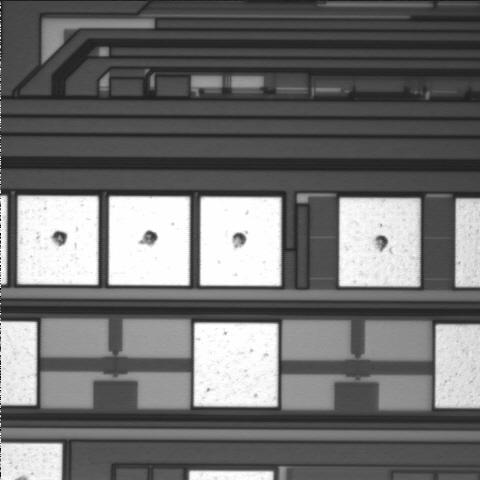pad: (18, 196, 99, 285), (109, 196, 190, 285), (200, 197, 281, 286), (339, 198, 420, 286), (194, 323, 278, 407)
